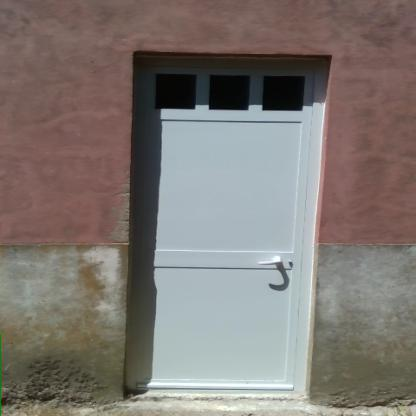door: (136, 59, 301, 388)
lever: (256, 257, 284, 268)
